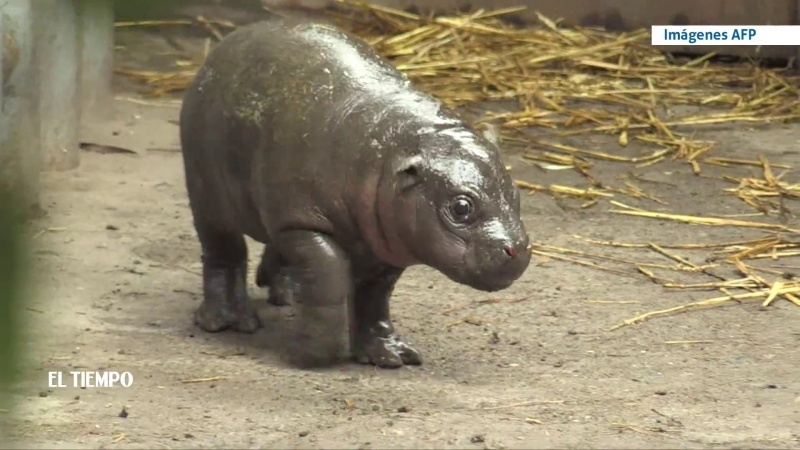hipopotamo: (149, 9, 540, 382)
